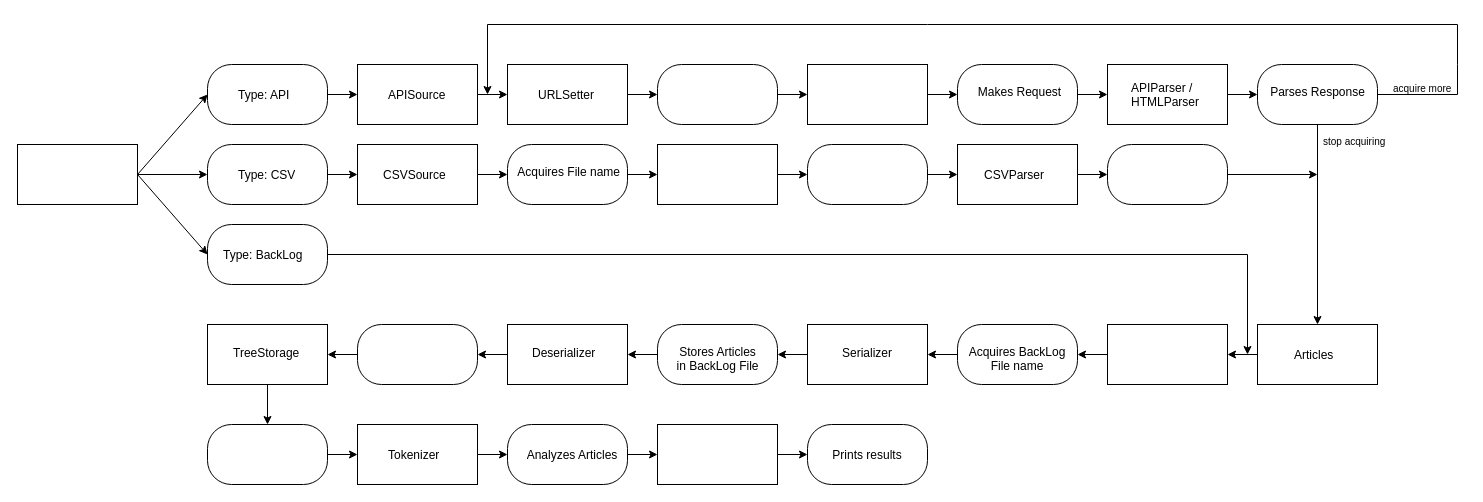
The diagram is 1483 pixels wide and 502 high, and some of its shapes have lost their labels. The shapes that lost their labels are listed below. From the top down, each one's centre as x and y in pixels, then its label:
(717,94): Acquires URL
(867,94): HTTPClient
(77,174): SourceType
(717,174): File
(867,174): Reads File
(1167,174): Parses File
(417,354): Recovers Articles from BackLog File
(1167,354): BackLog File
(267,454): Organizes Data
(717,454): Console
